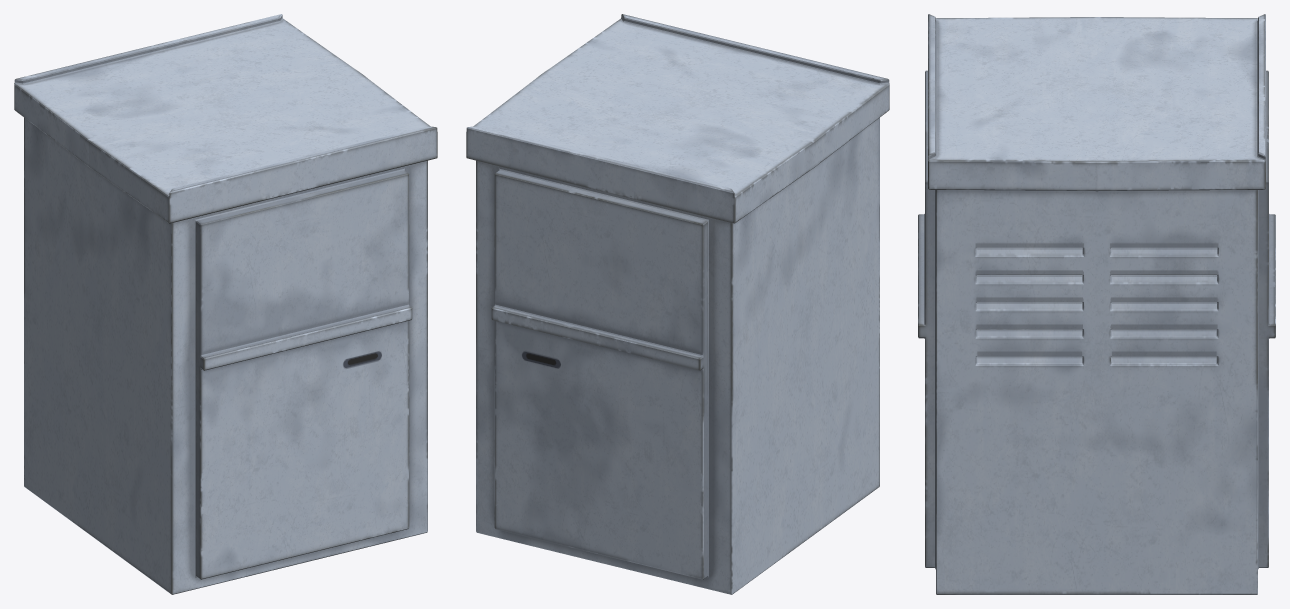
File: power_station.gltf
3 views of the same model, side by side, from view 1: azimuth 30°, elevation 25°; view 2: azimuth 150°, elevation 25°; view 3: azimuth 270°, elevation 25° (orthographic). The views are drawn at different scales.
Parts seen in each view (by area): view 1: power_station; view 2: power_station; view 3: power_station.
Part boxes in pixels (x1,y1,x2,y2): power_station: (14,14,437,594); power_station: (466,14,889,594); power_station: (918,14,1275,594).
Bounding box in the file's own units: 2.14 × 3.03 × 2.22.
1 material, 1 textured.
